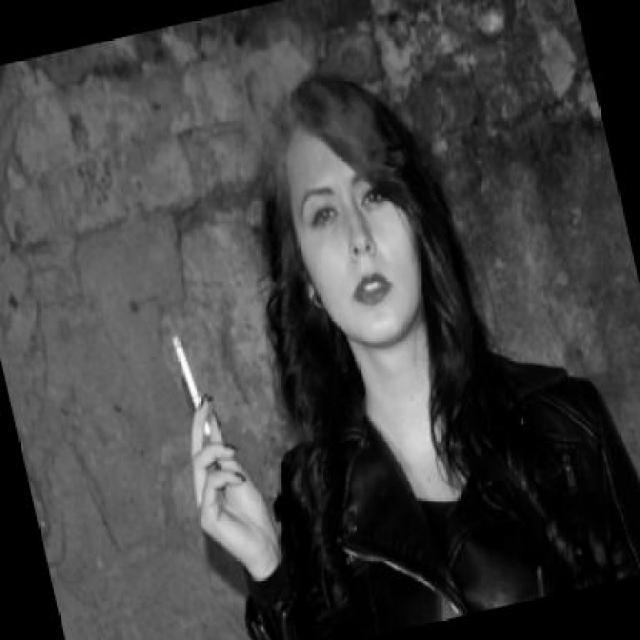cigarette: (170, 329, 216, 440)
